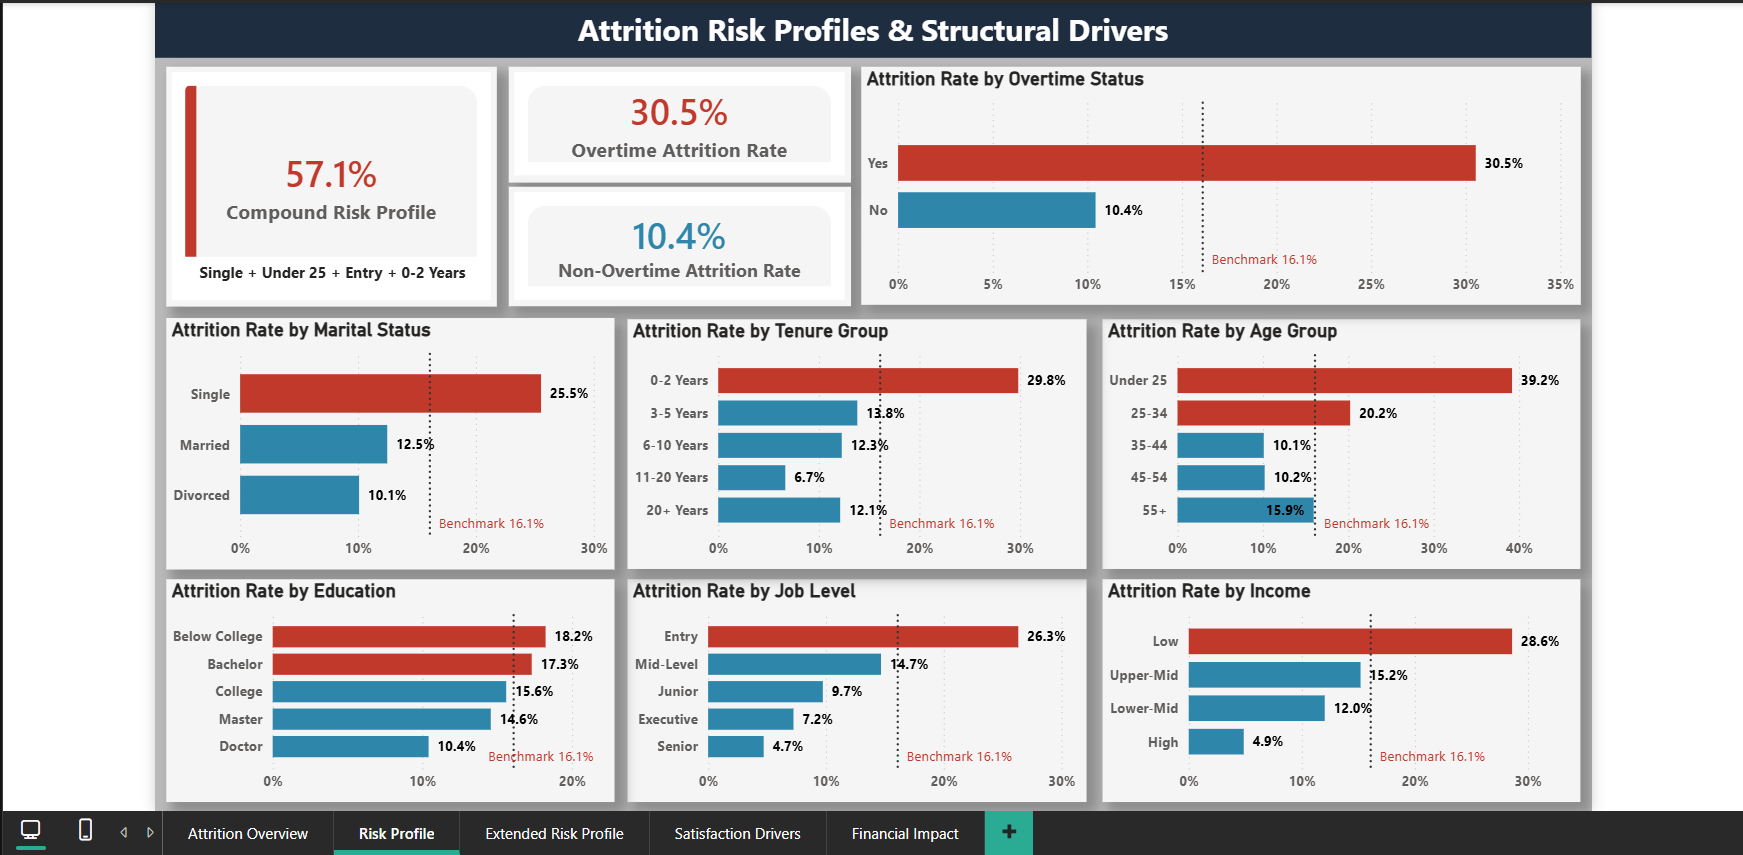

This screenshot's page, from the dashboard's own definition file:
{"tool":"powerbi","page":{"name":"Risk Profile","canvas":[1280,720],"ordinal":1},"visuals":[{"type":"cardVisual","fields":{"Data":["HR Measures.High Risk Segment Rate"]},"box":[10.3,56.6,294.7,213.6],"z":0},{"type":"barChart","title":"Attrition Rate by Age Group","fields":{"Y":["HR Measures.Attrition Rate %"],"Category":["Cleaned_Data.Age_Group"]},"box":[844.1,281.8,425.9,222.6],"z":1000},{"type":"textbox","box":[0,0,1279,49],"z":2000},{"type":"cardVisual","fields":{"Data":["HR Measures.OT Attrition Rate %"]},"box":[315.2,56.6,304.9,102.9],"z":3000},{"type":"cardVisual","fields":{"Data":["HR Measures.Non-OT Attrition Rate %"]},"box":[315.2,163.4,304.9,106.8],"z":4000},{"type":"barChart","title":"Attrition Rate by Job Level","fields":{"Y":["HR Measures.Attrition Rate %"],"Category":["Cleaned_Data.JobLevel_Label"]},"box":[420.7,513.4,409.2,198.2],"z":5000},{"type":"barChart","title":"Attrition Rate by Marital Status","fields":{"Y":["HR Measures.Attrition Rate %"],"Category":["Cleaned_Data.MaritalStatus"]},"box":[10.3,280.5,398.9,223.9],"z":6000},{"type":"barChart","title":"Attrition Rate by Overtime Status","fields":{"Y":["HR Measures.Attrition Rate %"],"Category":["Cleaned_Data.OverTime"]},"box":[629.2,56.6,640.8,212.3],"z":7000},{"type":"barChart","title":"Attrition Rate by Income","fields":{"Y":["HR Measures.Attrition Rate %"],"Category":["Cleaned_Data.Income_Band"]},"box":[844.1,513.4,425.9,198.2],"z":8000},{"type":"barChart","title":"Attrition Rate by Education","fields":{"Y":["HR Measures.Attrition Rate %"],"Category":["Cleaned_Data.Education_Label"]},"box":[10.3,513.4,398.9,198.2],"z":9000},{"type":"barChart","title":"Attrition Rate by Tenure Group","fields":{"Y":["HR Measures.Attrition Rate %"],"Category":["Cleaned_Data.Tenure_Group"]},"box":[420.7,281.8,409.2,222.6],"z":11000},{"type":"textbox","box":[22.3,226,271.6,32.3],"z":12500}]}

Visuals, with their boxes in screenshot pixels (x1, y1, x2, y2):
cardVisual - HR Measures.High Risk Segment Rate: [left=161, top=59, right=494, bottom=300]
"Attrition Rate by Age Group" barChart: [left=1101, top=313, right=1582, bottom=564]
textbox: [left=150, top=0, right=1592, bottom=51]
cardVisual - HR Measures.OT Attrition Rate %: [left=505, top=59, right=849, bottom=175]
cardVisual - HR Measures.Non-OT Attrition Rate %: [left=505, top=180, right=849, bottom=300]
"Attrition Rate by Job Level" barChart: [left=624, top=574, right=1085, bottom=798]
"Attrition Rate by Marital Status" barChart: [left=161, top=312, right=611, bottom=564]
"Attrition Rate by Overtime Status" barChart: [left=859, top=59, right=1582, bottom=299]
"Attrition Rate by Income" barChart: [left=1101, top=574, right=1582, bottom=798]
"Attrition Rate by Education" barChart: [left=161, top=574, right=611, bottom=798]
"Attrition Rate by Tenure Group" barChart: [left=624, top=313, right=1085, bottom=564]
textbox: [left=175, top=250, right=481, bottom=287]
